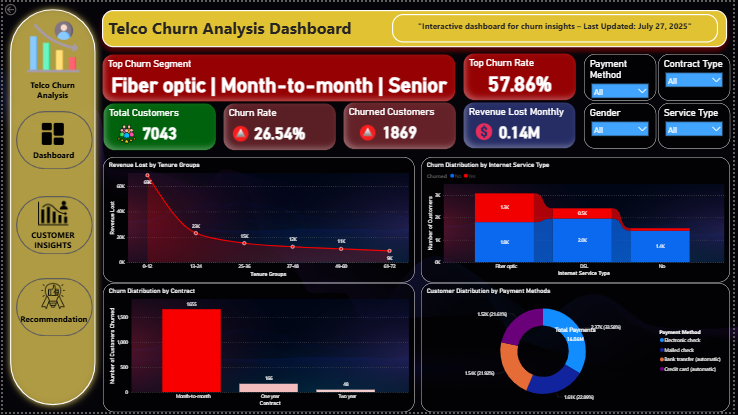

Layout of this report page (visuals, bound fields, positions):
{"tool":"powerbi","page":{"name":"Dashboard","canvas":[1920,1080],"ordinal":0},"visuals":[{"type":"card","title":"Total Customers","fields":{"Values":["CountNonNull(Telco_Churn_Cleaned_SQL.customerID)"]},"box":[262.5,265,297.5,125],"z":0},{"type":"group","id":"g1","title":"Group 1","box":[91.4,312.9,78.6,68.6],"z":0,"group":"g2"},{"type":"card","title":"Churned Customers","fields":{"Values":["CountNonNull(Telco_Churn_Cleaned_SQL.Churn)"]},"box":[894.2,262.5,297.5,125],"z":1000},{"type":"image","box":[91.4,312.9,78.9,68.4],"z":1000,"group":"g1"},{"type":"textbox","box":[72.5,382.5,127.5,57.5],"z":1000,"group":"g2"},{"type":"card","title":"Churn Rate","fields":{"Values":["Telco_Churn_Cleaned_SQL.Churn Rate"]},"box":[578.3,265,297.5,125],"z":2000},{"type":"textbox","box":[63.6,591.8,136.4,72.2],"z":2000,"group":"g3"},{"type":"textbox","box":[32.9,811.8,205,42.5],"z":2000,"group":"g6"},{"type":"card","title":"Revenue Lost Monthly","fields":{"Values":["Telco_Churn_Cleaned_SQL.Revenue Lost"]},"box":[1210,262.9,297.1,122.9],"z":3000},{"type":"actionButton","box":[0,0,100,40],"z":4000},{"type":"shape","title":"Telco ","box":[0,0,262.5,1080],"z":5000},{"type":"image","box":[0,40,262.9,157.1],"z":6000},{"type":"clusteredColumnChart","title":"Churn Distribution by Contract","fields":{"Y":["CountNonNull(Telco_Churn_Cleaned_SQL.Churn)"],"Category":["Telco_Churn_Cleaned_SQL.Contract"]},"box":[262.5,740,820,340],"z":8000},{"type":"donutChart","title":"Customer Distribution by Payment Methods","fields":{"Category":["Telco_Churn_Cleaned_SQL.PaymentMethod"],"Y":["CountNonNull(Telco_Churn_Cleaned_SQL.customerID)"]},"box":[1100,740,812.5,340],"z":9000},{"type":"columnChart","title":"Churn Distribution by Internet Service Type","fields":{"Series":["Telco_Churn_Cleaned_SQL.Churn"],"Category":["Telco_Churn_Cleaned_SQL.InternetService"],"Y":["CountNonNull(Telco_Churn_Cleaned_SQL.customerID)"]},"box":[1100,407.5,812.5,330],"z":10000},{"type":"lineChart","title":"Revenue Lost by Tenure Groups","fields":{"Y":["Telco_Churn_Cleaned_SQL.Revenue Lost"],"Category":["Telco_Churn_Cleaned_SQL.TenureGroups"]},"box":[262.5,407.5,820,330],"z":11000},{"type":"slicer","title":"Gender","fields":{"Values":["Telco_Churn_Cleaned_SQL.Contract"]},"box":[1530,265,190,120],"z":12000},{"type":"slicer","title":"Contract Type","fields":{"Values":["Telco_Churn_Cleaned_SQL.Contract"]},"box":[1722.5,137.5,190,122.5],"z":13000},{"type":"slicer","title":"Service Type","fields":{"Values":["Telco_Churn_Cleaned_SQL.InternetService"]},"box":[1722.5,265,190,120],"z":14000},{"type":"slicer","title":"Payment Method","fields":{"Values":["Telco_Churn_Cleaned_SQL.PaymentMethod"]},"box":[1530,137.5,190,122.5],"z":15000},{"type":"image","box":[934.3,317.1,51.4,51.4],"z":16000},{"type":"textbox","box":[260,20,1645,97.5],"z":17000},{"type":"textbox","box":[1022.5,32.5,857.5,75],"z":18000},{"type":"card","title":"Total Payments","fields":{"Values":["Sum(Telco_Churn_Cleaned_SQL.TotalRevenue)"]},"box":[1415.4,853.1,180,54.6],"z":19000},{"type":"card","title":"Top Churn Segment","fields":{"Values":["SegmentChurnSummary.TopChurnSegment"]},"box":[260,137.1,931.4,125.7],"z":20000},{"type":"card","title":"Top Churn Rate","fields":{"Values":["SegmentChurnSummary.TopChurnRate"]},"box":[1210,135,297.5,125],"z":21000},{"type":"image","box":[600,321.4,51.4,51.4],"z":22000},{"type":"textbox","box":[27.1,197.1,208.6,65.7],"z":24000},{"type":"group","id":"g2","title":"Group 2","box":[72.5,312.9,127.5,127.1],"z":25000},{"type":"group","id":"g3","title":"Group 1","box":[63.6,591.8,136.2,72.5],"z":25000,"group":"g4"},{"type":"group","id":"g4","title":"Group 3","box":[63.6,510.5,136.2,153.8],"z":26000},{"type":"image","box":[92.4,733,78.8,78.8],"z":26000,"group":"g5"},{"type":"image","box":[83.6,510.5,96.2,90],"z":27000,"group":"g4"},{"type":"group","id":"g5","title":"Group 4","box":[32.9,733,205,121.2],"z":27000},{"type":"actionButton","box":[33.3,511.1,202.2,153.3],"z":28000},{"type":"group","id":"g6","title":"Group 1","box":[32.9,811.8,205,42.5],"z":28000,"group":"g5"},{"type":"actionButton","box":[33.3,726.7,202.2,153.3],"z":29000},{"type":"actionButton","box":[33.3,286.7,202.2,153.3],"z":30000},{"type":"image","box":[293.8,317.5,61.2,58.8],"z":30001},{"type":"image","box":[1235.7,314.3,57.1,55.7],"z":30002}]}

Visuals, with their boxes in screenshot pixels (x1, y1, x2, y2), scaled from the page's 1920x1080 canvas onto the 738x415 screenshot:
"Total Customers" card: <bbox>101, 102, 215, 150</bbox>
"Group 1" group: <bbox>35, 120, 65, 147</bbox>
"Churned Customers" card: <bbox>344, 101, 458, 149</bbox>
image: <bbox>35, 120, 65, 147</bbox>
textbox: <bbox>28, 147, 77, 169</bbox>
"Churn Rate" card: <bbox>222, 102, 337, 150</bbox>
textbox: <bbox>24, 227, 77, 255</bbox>
textbox: <bbox>13, 312, 91, 328</bbox>
"Revenue Lost Monthly" card: <bbox>465, 101, 579, 148</bbox>
actionButton: <bbox>0, 0, 38, 15</bbox>
"Telco " shape: <bbox>0, 0, 101, 414</bbox>
image: <bbox>0, 15, 101, 76</bbox>
"Churn Distribution by Contract" clusteredColumnChart: <bbox>101, 284, 416, 414</bbox>
"Customer Distribution by Payment Methods" donutChart: <bbox>423, 284, 735, 414</bbox>
"Churn Distribution by Internet Service Type" columnChart: <bbox>423, 157, 735, 283</bbox>
"Revenue Lost by Tenure Groups" lineChart: <bbox>101, 157, 416, 283</bbox>
"Gender" slicer: <bbox>588, 102, 661, 148</bbox>
"Contract Type" slicer: <bbox>662, 53, 735, 100</bbox>
"Service Type" slicer: <bbox>662, 102, 735, 148</bbox>
"Payment Method" slicer: <bbox>588, 53, 661, 100</bbox>
image: <bbox>359, 122, 379, 142</bbox>
textbox: <bbox>100, 8, 732, 45</bbox>
textbox: <bbox>393, 12, 723, 41</bbox>
"Total Payments" card: <bbox>544, 328, 613, 349</bbox>
"Top Churn Segment" card: <bbox>100, 53, 458, 101</bbox>
"Top Churn Rate" card: <bbox>465, 52, 579, 100</bbox>
image: <bbox>231, 124, 250, 143</bbox>
textbox: <bbox>10, 76, 91, 101</bbox>
"Group 2" group: <bbox>28, 120, 77, 169</bbox>
"Group 1" group: <bbox>24, 227, 77, 255</bbox>
"Group 3" group: <bbox>24, 196, 77, 255</bbox>
image: <bbox>36, 282, 66, 312</bbox>
image: <bbox>32, 196, 69, 231</bbox>
"Group 4" group: <bbox>13, 282, 91, 328</bbox>
actionButton: <bbox>13, 196, 91, 255</bbox>
"Group 1" group: <bbox>13, 312, 91, 328</bbox>
actionButton: <bbox>13, 279, 91, 338</bbox>
actionButton: <bbox>13, 110, 91, 169</bbox>
image: <bbox>113, 122, 136, 145</bbox>
image: <bbox>475, 121, 497, 142</bbox>
